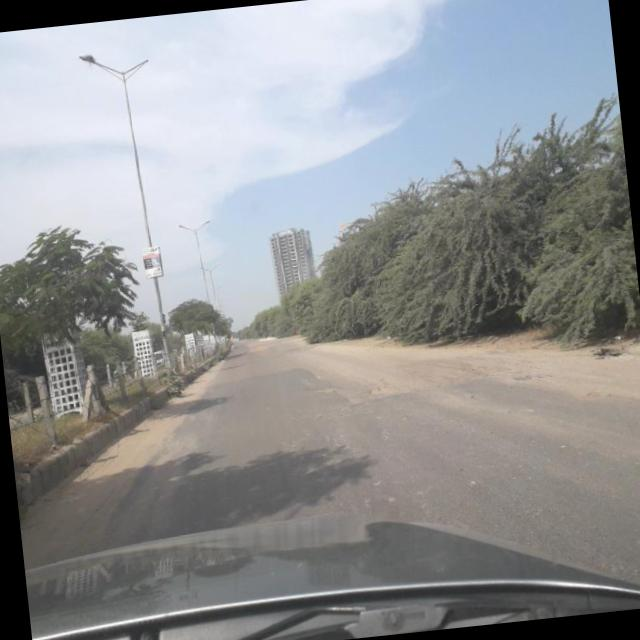pothole: (361, 346, 495, 406), (315, 375, 344, 402)
